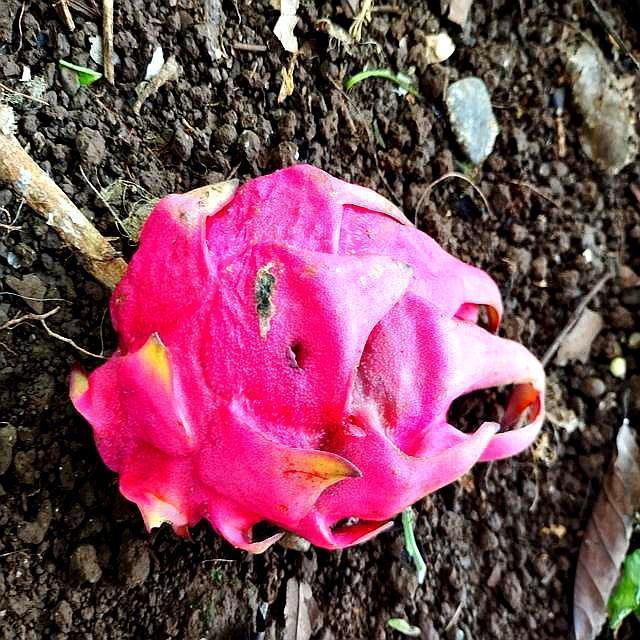Biodegradable: (69, 161, 535, 547)
